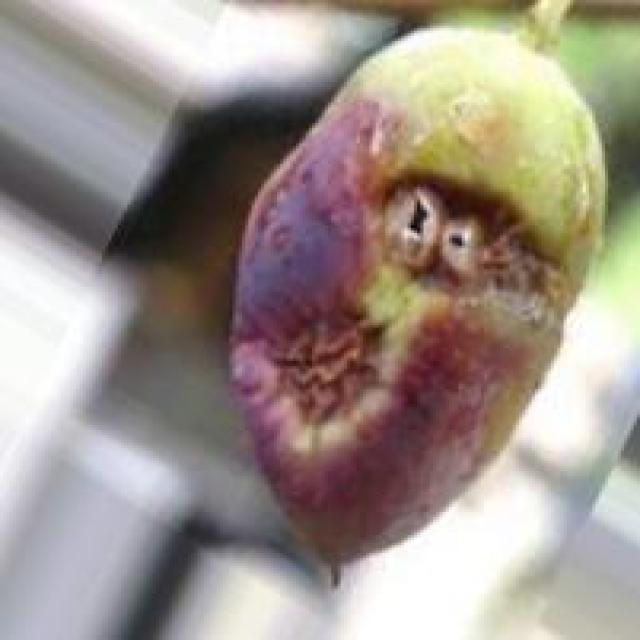Olive Fruit Fly: (232, 34, 602, 575)
